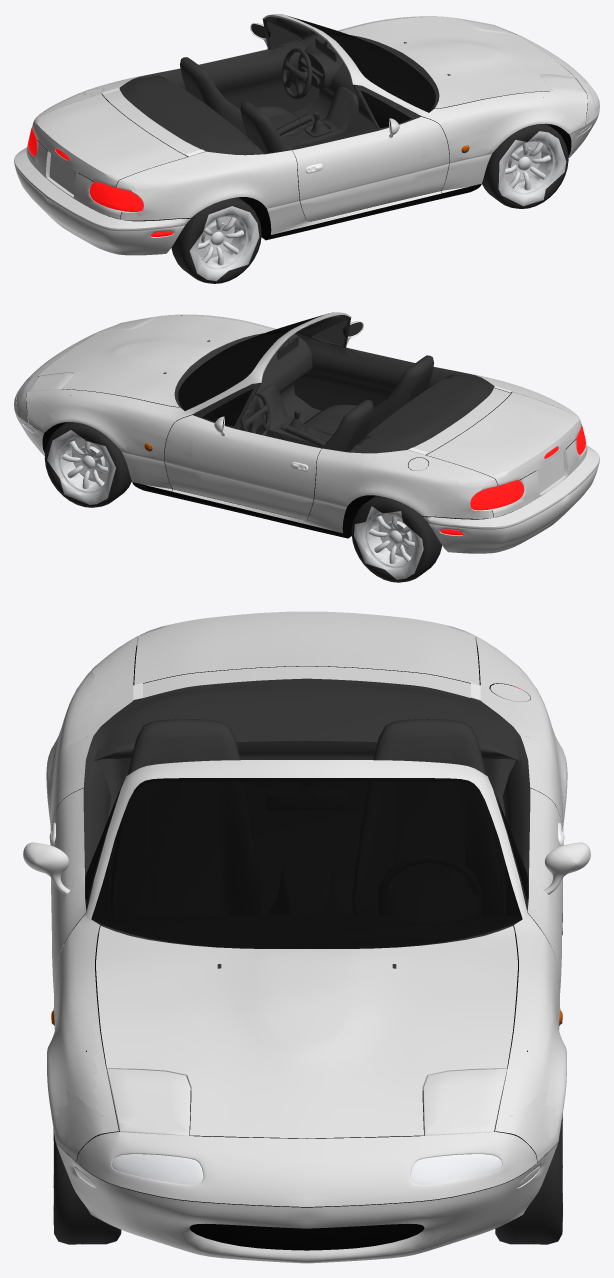
Rendered from mazdo_miota.glb.
The picture shows the model from 3 angles, top to bottom: view 1: azimuth 30°, elevation 25°; view 2: azimuth 150°, elevation 25°; view 3: azimuth 270°, elevation 25°; orthographic projection. The views are drawn at different scales.
Parts seen in each view (by area): view 1: liner_trim, part_trunk, part_door_fr, part_hood, part_fender_fr, part_rear_bumper, wheel_rr, wheel_fr, part_glass, part_quarter_rr, part_front_bumper, taillight_r (+1 smaller); view 2: liner_trim, part_trunk, part_door_fl, part_hood, part_fender_fl, part_rear_bumper, wheel_rl, wheel_fl, part_glass, part_quarter_rl, part_front_bumper, taillight_l (+1 smaller); view 3: liner_trim, part_hood, part_glass, part_front_bumper, part_trunk, part_fender_fl, part_fender_fr, part_roof, part_door_fl, part_door_fr, wheel_fl, wheel_fr (+4 smaller).
Boxes of the visible parts, x1,y1,x2,y2 form: liner_trim: [37, 16, 587, 240]; part_trunk: [27, 79, 237, 218]; part_door_fr: [243, 107, 421, 234]; part_hood: [339, 16, 581, 111]; part_fender_fr: [411, 93, 576, 198]; part_rear_bumper: [14, 147, 190, 255]; wheel_rr: [171, 197, 261, 283]; wheel_fr: [482, 123, 568, 208]; part_glass: [267, 15, 435, 128]; part_quarter_rr: [131, 155, 254, 218]; part_front_bumper: [488, 23, 599, 157]; taillight_r: [61, 152, 173, 236]; liner_trim: [26, 315, 576, 538]; part_trunk: [376, 377, 586, 516]; part_door_fl: [192, 405, 370, 533]; part_hood: [32, 315, 273, 409]; part_fender_fl: [37, 389, 202, 496]; part_rear_bumper: [423, 445, 599, 553]; wheel_rl: [351, 495, 441, 582]; wheel_fl: [44, 422, 131, 507]; part_glass: [178, 313, 346, 426]; part_quarter_rl: [359, 453, 483, 516]; part_front_bumper: [14, 322, 125, 456]; taillight_l: [440, 450, 552, 535]; liner_trim: [49, 645, 564, 1250]; part_hood: [92, 846, 521, 1134]; part_glass: [85, 778, 528, 948]; part_front_bumper: [53, 1089, 560, 1263]; part_trunk: [87, 611, 522, 729]; part_fender_fl: [473, 885, 566, 1125]; part_fender_fr: [47, 885, 140, 1125]; part_roof: [103, 760, 510, 852]; part_door_fl: [517, 734, 590, 987]; part_door_fr: [23, 734, 96, 987]; wheel_fl: [495, 1113, 562, 1244]; wheel_fr: [53, 1129, 121, 1244].
Bounding box in the file's own units: 3.97 × 1.2 × 1.85.
11 materials, 1 textured.
